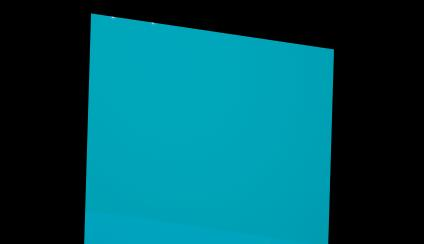boat: (104, 12, 156, 44)
drone: (113, 13, 150, 28)
land_base: (255, 242, 328, 244)
